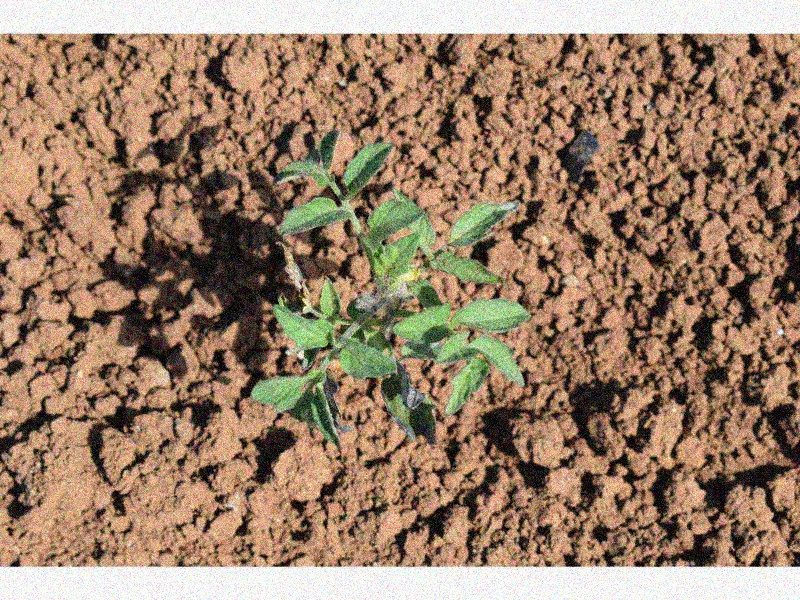tomato: (251, 127, 532, 448)
